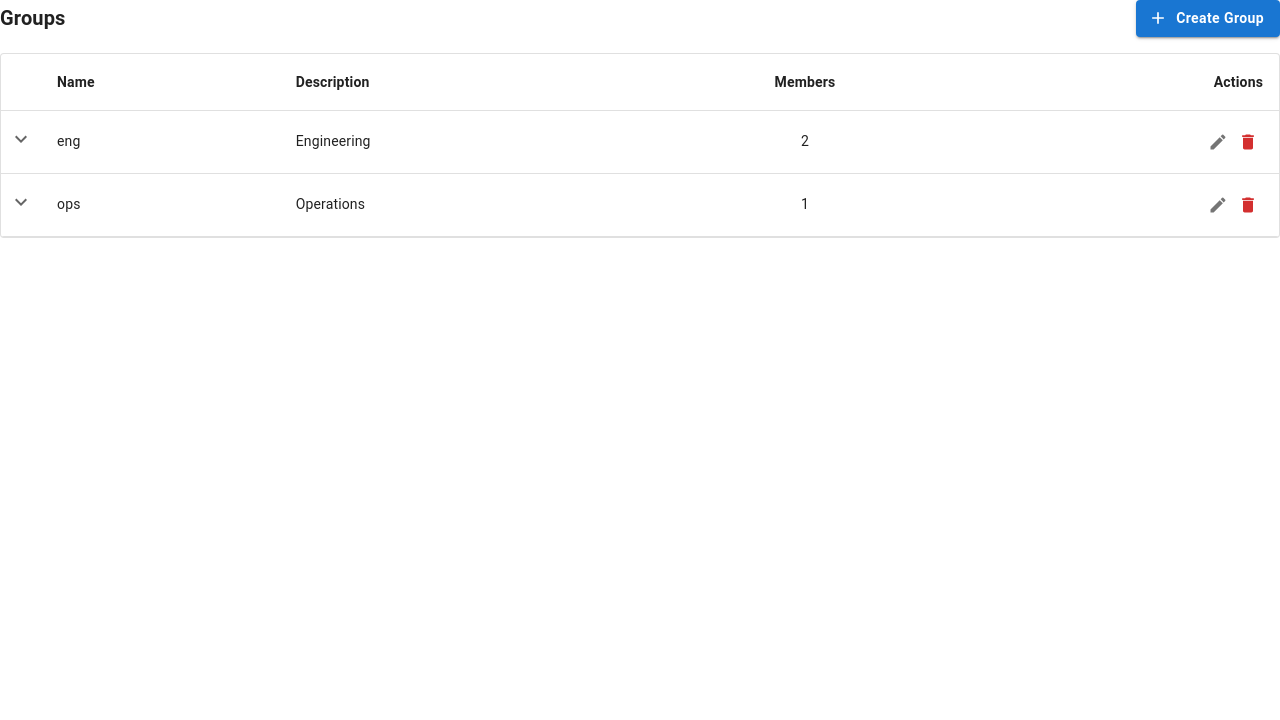
Test: AdminGroups › Add member dialog › renders a dialog-level error when loading available members fails
The image size is (1280, 720).
Click the text "eng". click: (160, 142)
box: [41,110,280,173]
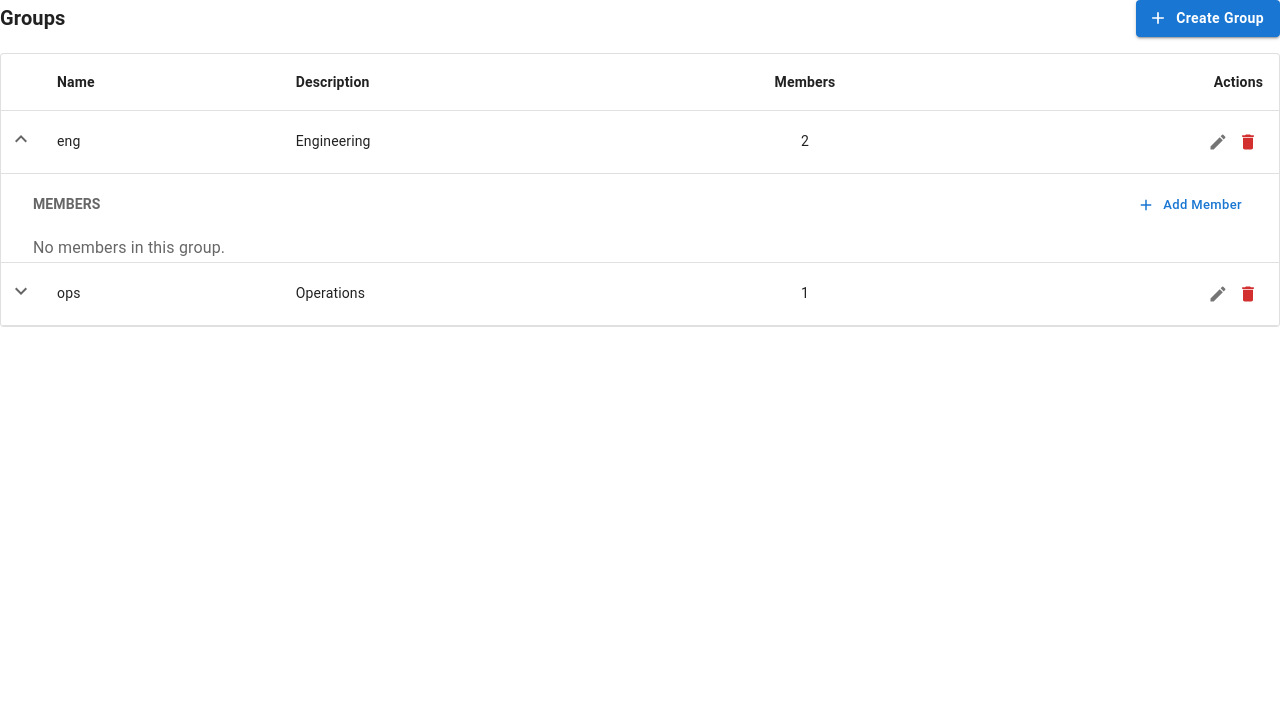
Expected: the text "No members in this group." is shown, [33,238,225,257]
Click the button "Add Member". click: (1191, 205)
box: [1134,190,1247,220]
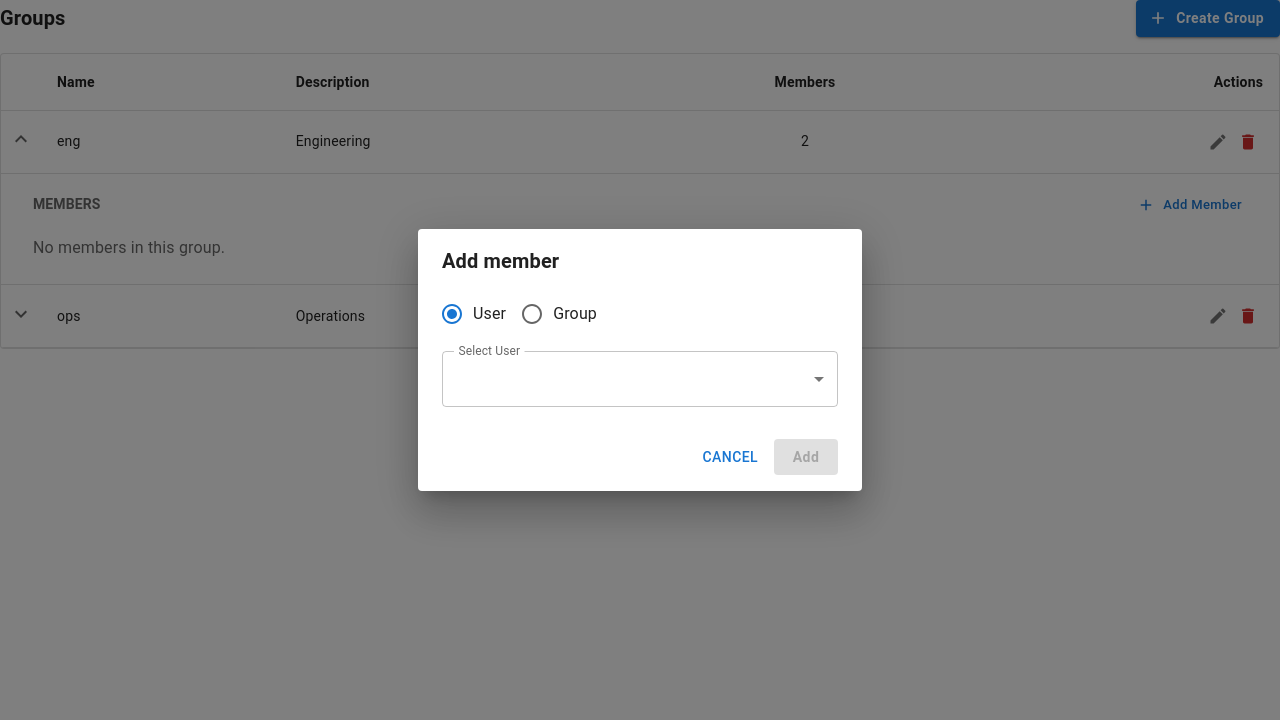
Expected: the dialog is shown, [418,229,862,491]
Expected: the button "Add" is disabled, [774,439,838,475]
